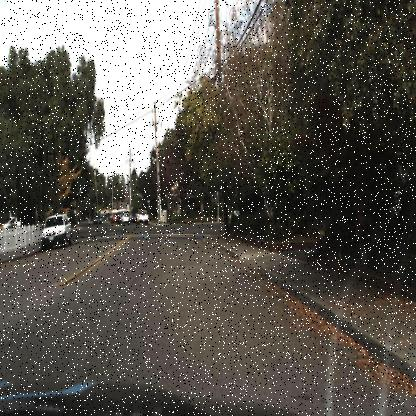car: (40, 208, 73, 255), (132, 207, 150, 228)
trafficLight-Red: (156, 184, 162, 202)
